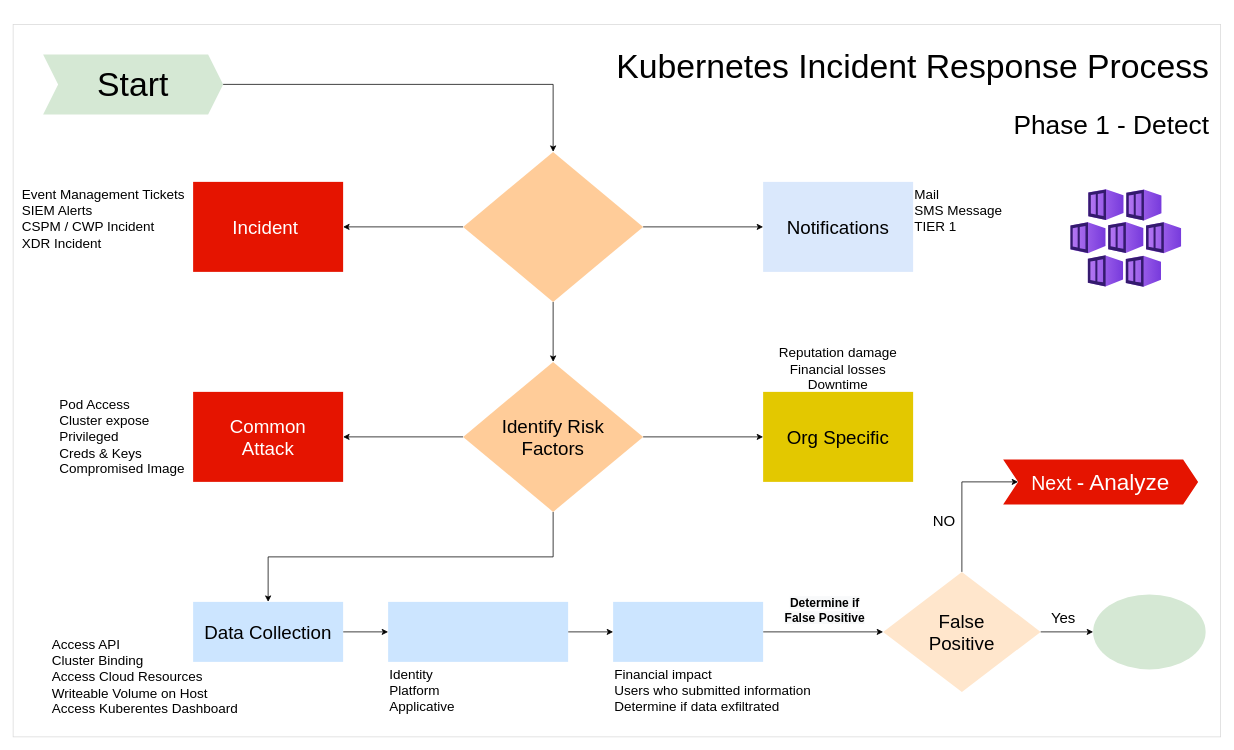
This 1234x750 diagram has some shape labels left out. The shapes that lost their labels are listed below. From the top down, each one's box as (x1, y1, x2, y2) in pixels, then its label:
(463, 152, 643, 302): Identify Threat Indicators
(388, 602, 568, 662): Categorize (Determine type)
(613, 602, 763, 662): Triage
(1093, 594, 1205, 669): End Detect Phase
